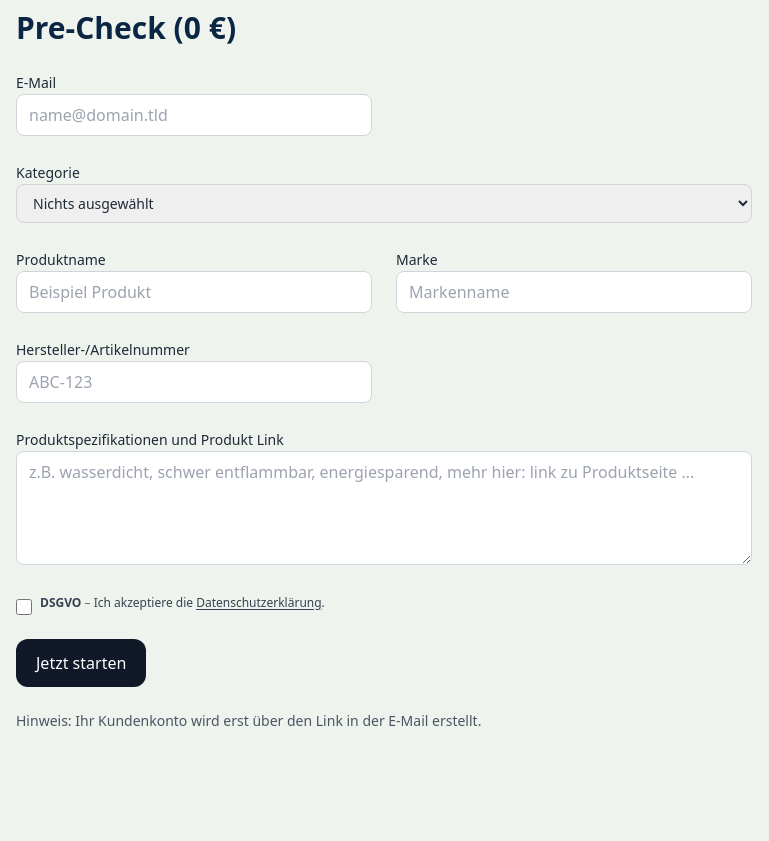
Test: Precheck form interactions › submits transformed payload and shows email handoff on success
The image size is (769, 841).
Type "max@example.com" into the field with placeholder "name@domain.tld" at (194, 115), box [16,94,372,136]
Select "Baby" in the dropdown at (384, 204), box [16,184,752,223]
Type "Testprodukt" into the field with placeholder "Beispiel Produkt" at (194, 292), box [16,271,372,313]
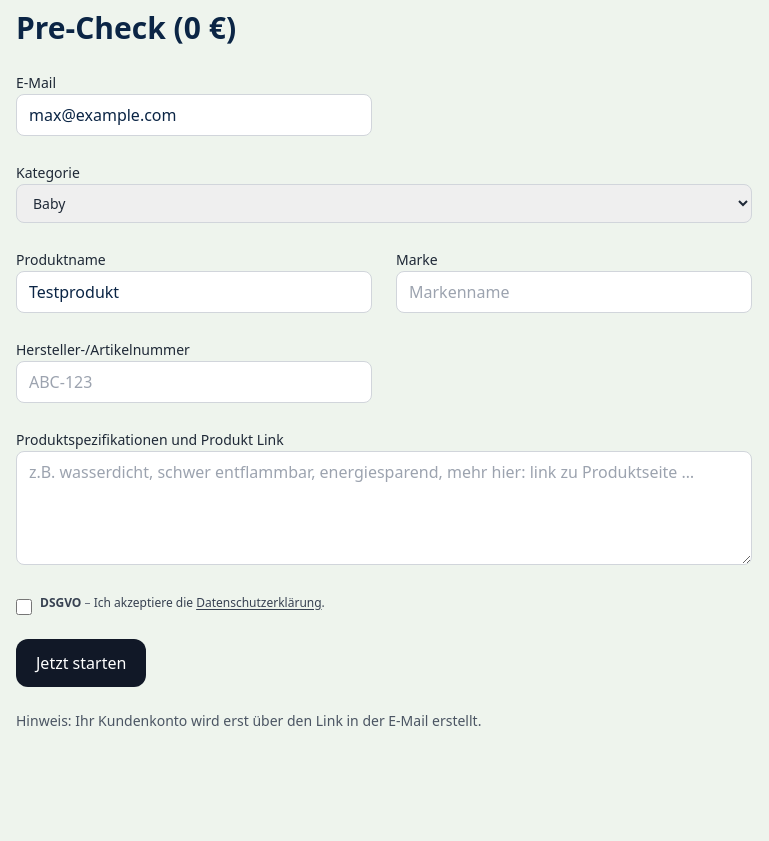
Type "Marke X" into the field with placeholder "Markenname" at (574, 292), box [396,271,752,313]
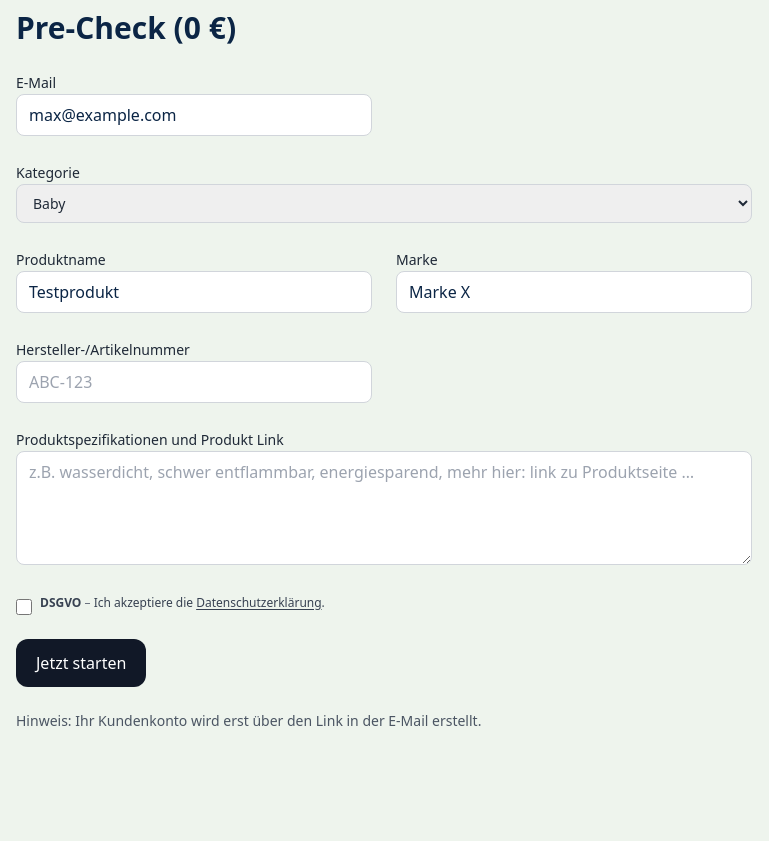
Type "SKU-123" into the field with placeholder "ABC-123" at (194, 382), box [16,361,372,403]
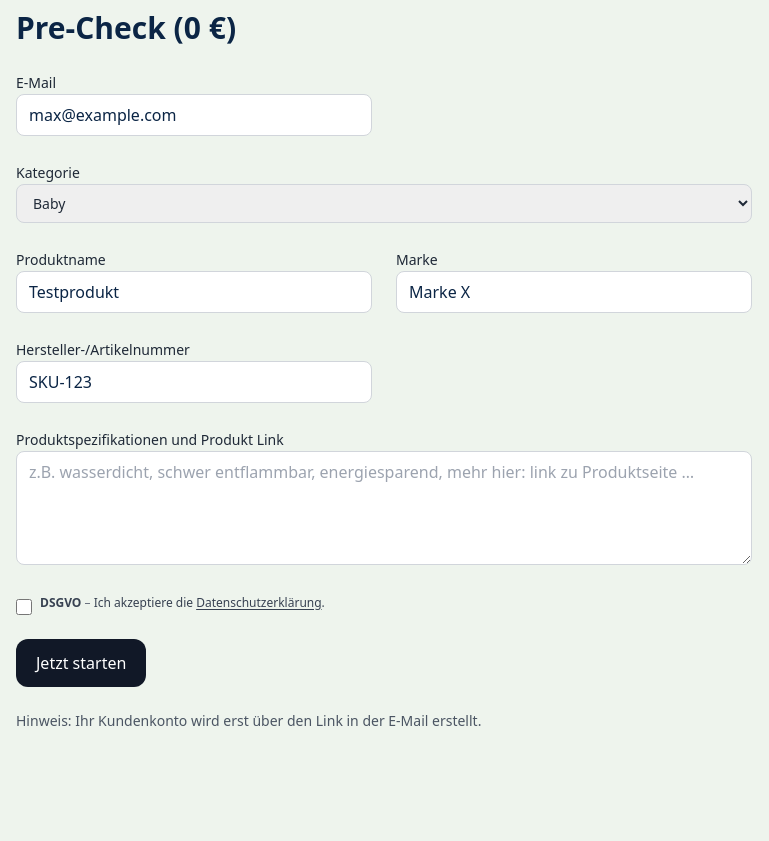
Replace the text in the text box with "Wasserdicht, langlebig und energiesparend" at (384, 508), box [16,451,752,565]
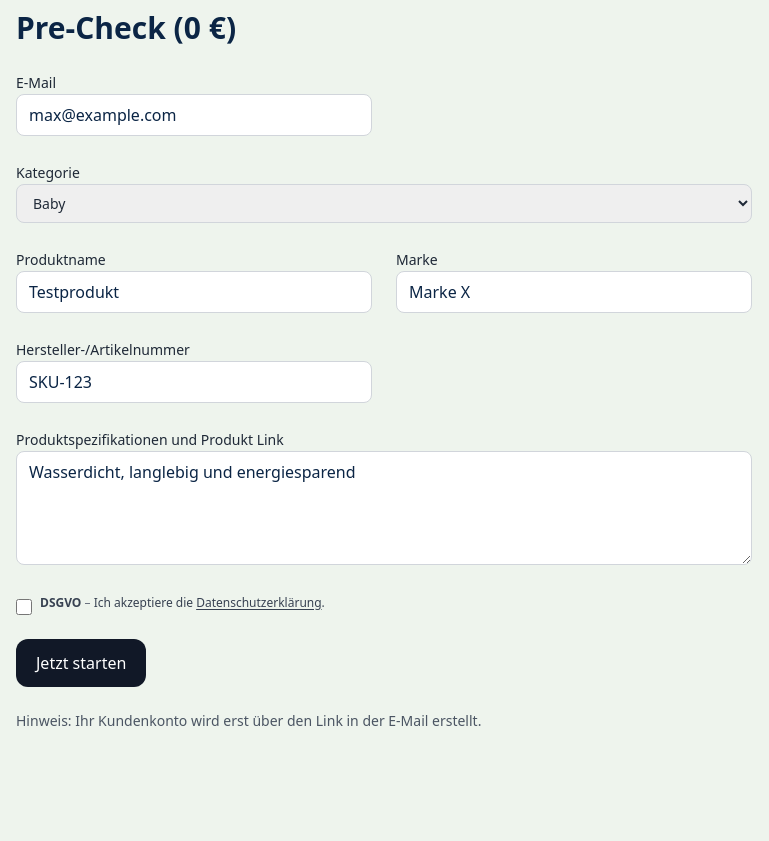
Click the checkbox labelled "DSGVO – Ich akzeptiere die Datenschutzerklärung ." at (24, 607), box [16,599,32,615]
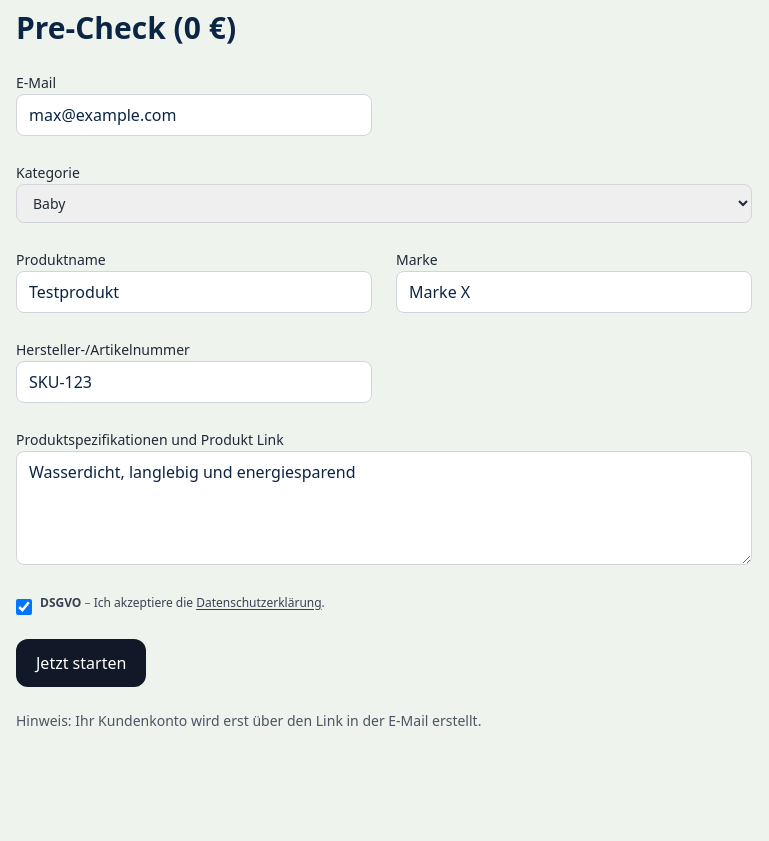
Click the button "Jetzt starten" at (81, 663), box [16,639,146,687]
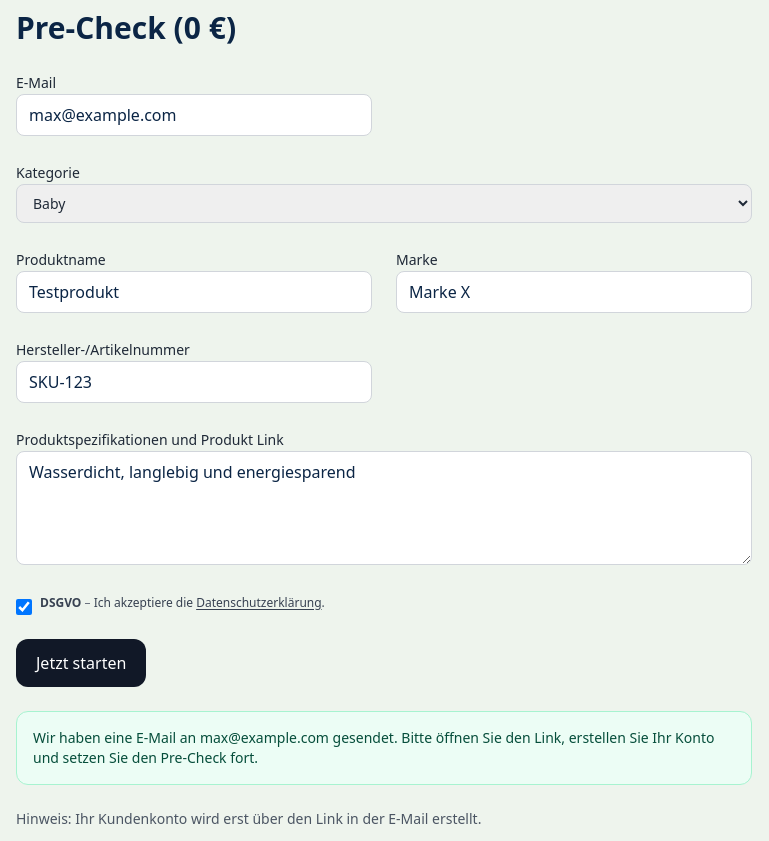
Expected: the text "Wir haben eine E-Mail an max@example.com gesendet" is shown, [33,728,714,767]
